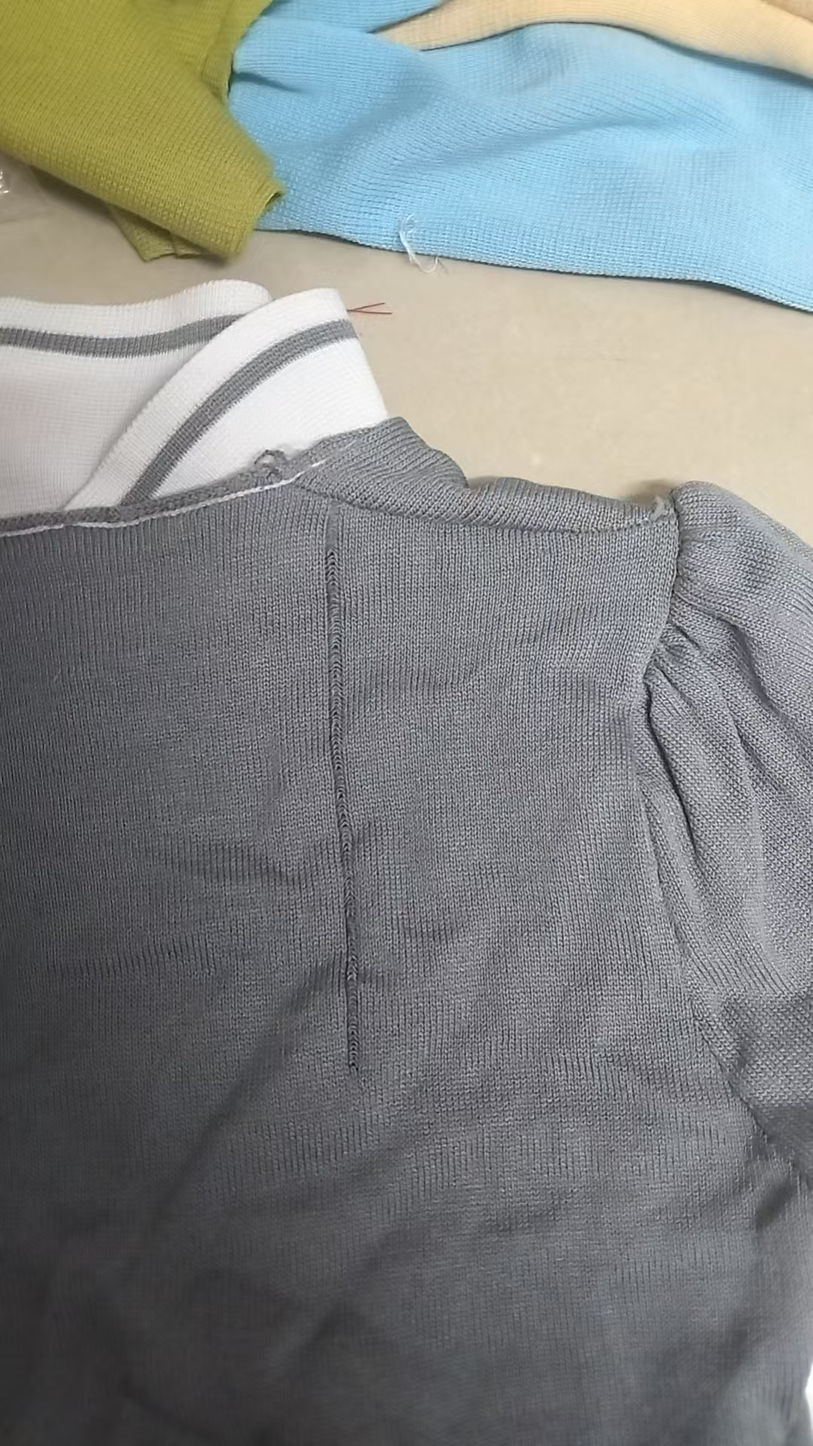missing_stitch_1: (329, 821, 371, 1078), (317, 516, 353, 799)
